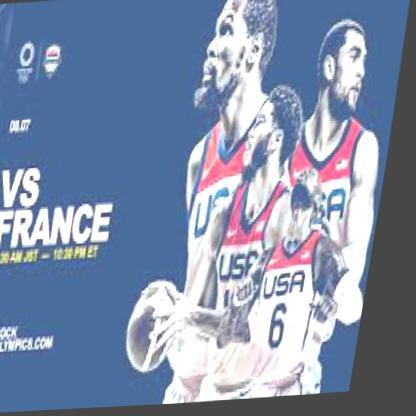basketball: (132, 287, 193, 377)
